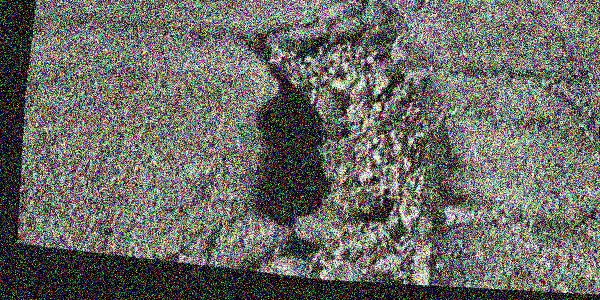pothole: (207, 2, 470, 287)
